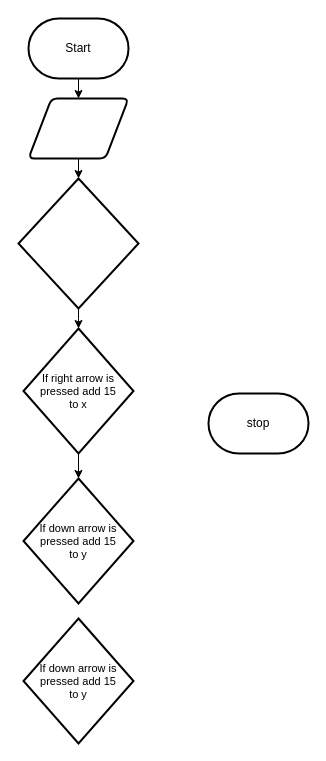
The diagram is 326 pixels wide and 761 high, and some of its shapes have lost their labels. The centre of each missing label's shape, as x and y in pixels:
"if up arrow is pressed subtract 15 from y" belongs at point (78, 243).
"Spawn in Dom" belongs at point (78, 128).
